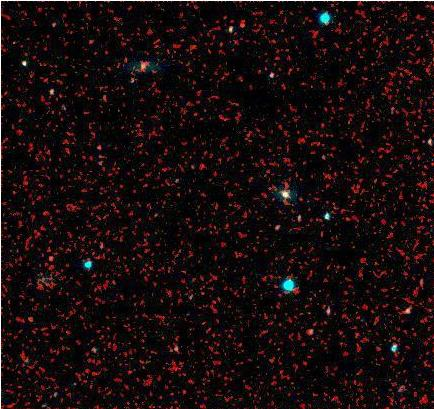star: (37, 247, 67, 277)
